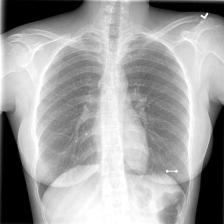normal: (32, 27, 193, 223)
